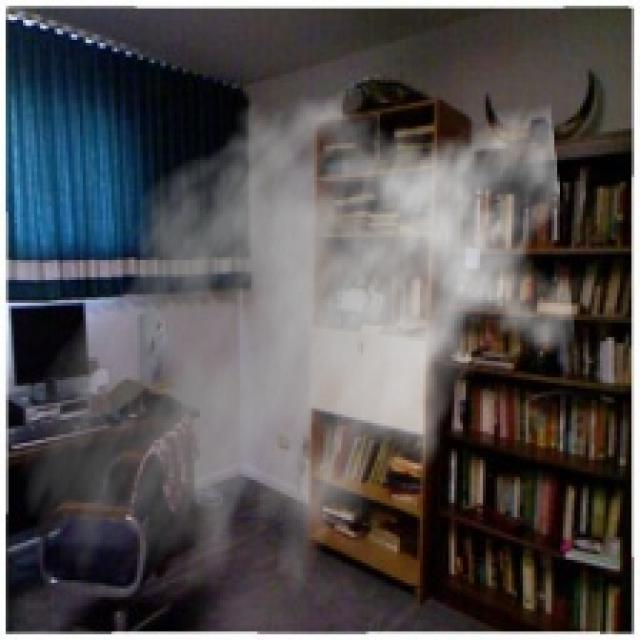Smoke: (17, 66, 577, 632)
